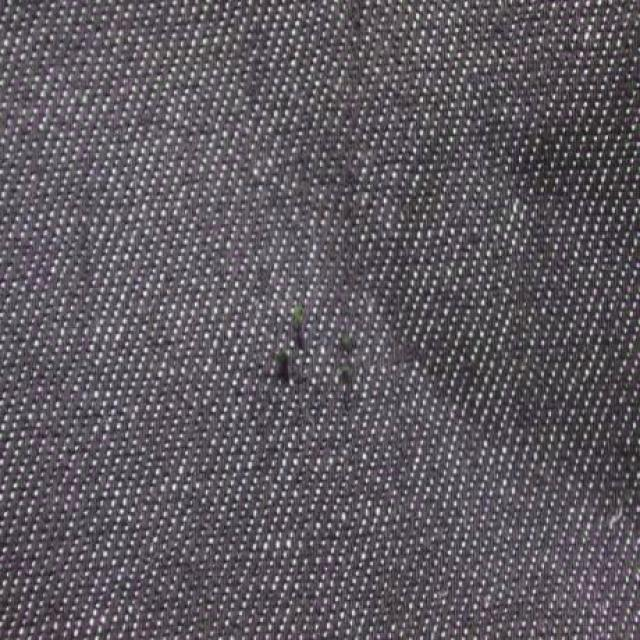stains: (242, 278, 489, 516)
